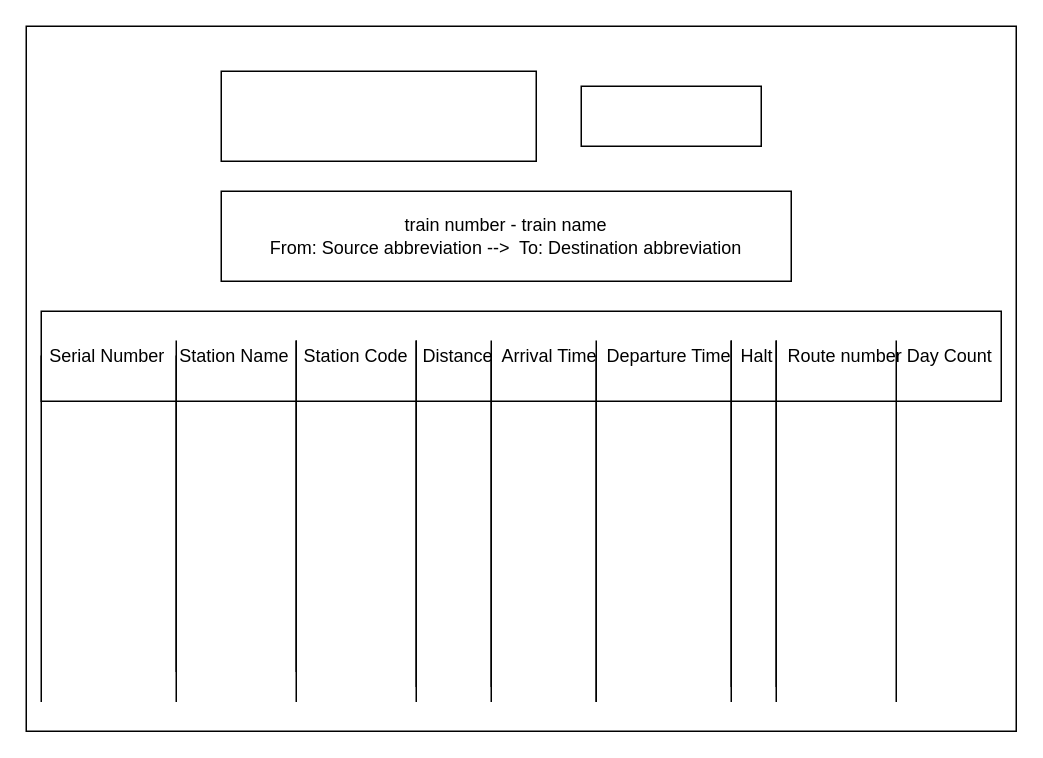
This 1043x758 diagram has some shape labels left out. Each missing label, with the centre of its shape:
"enter train number or name" goes at point 378,115.
"search button" goes at point 670,115.
